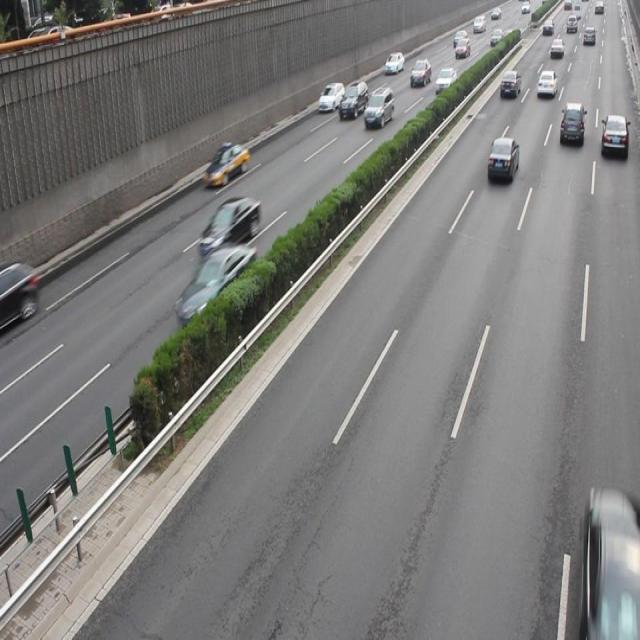car: (579, 489, 640, 640), (175, 242, 258, 322), (197, 194, 260, 265), (0, 257, 40, 328), (202, 141, 248, 187), (485, 136, 518, 184), (600, 112, 628, 158), (362, 86, 394, 125), (559, 100, 584, 146), (337, 80, 367, 118)
